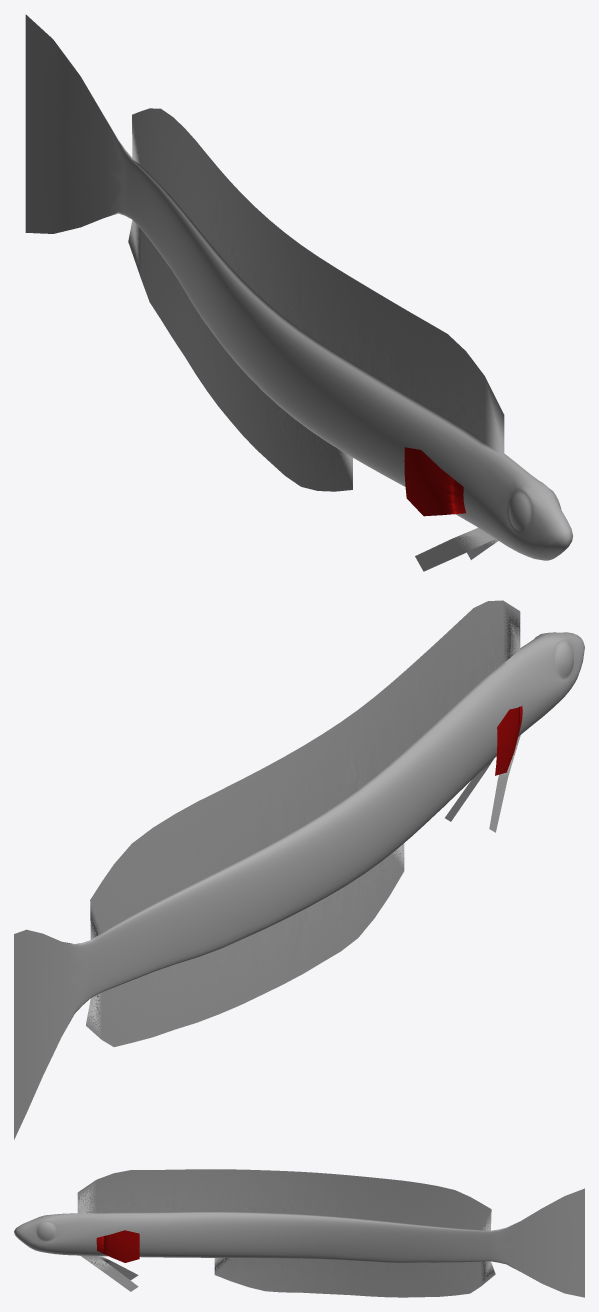
The model's file is Blenniidae_A.fbx.
3 renders of one model, top to bottom at view 1: azimuth 30°, elevation 25°; view 2: azimuth 150°, elevation 25°; view 3: azimuth 270°, elevation 25°, orthographic. The views are drawn at different scales.
Visible parts, largest first — view 1: Blenniidae_A_LOD0; view 2: Blenniidae_A_LOD0; view 3: Blenniidae_A_LOD0.
Boxes of the visible parts, left/top/right/bottom form: Blenniidae_A_LOD0: left=25, top=14, right=572, bottom=571; Blenniidae_A_LOD0: left=14, top=600, right=584, bottom=1139; Blenniidae_A_LOD0: left=14, top=1169, right=584, bottom=1297.
Size of what is drawn, in the model's own units: 0.0843 by 0.2447 by 1.01.
